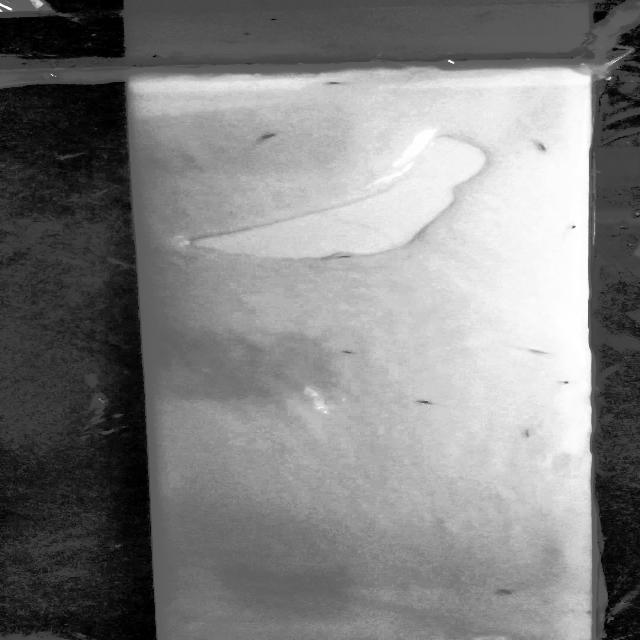shrimp: (244, 127, 288, 142), (491, 580, 520, 601), (409, 395, 441, 412), (335, 347, 367, 362), (552, 222, 584, 234), (552, 376, 578, 388)
